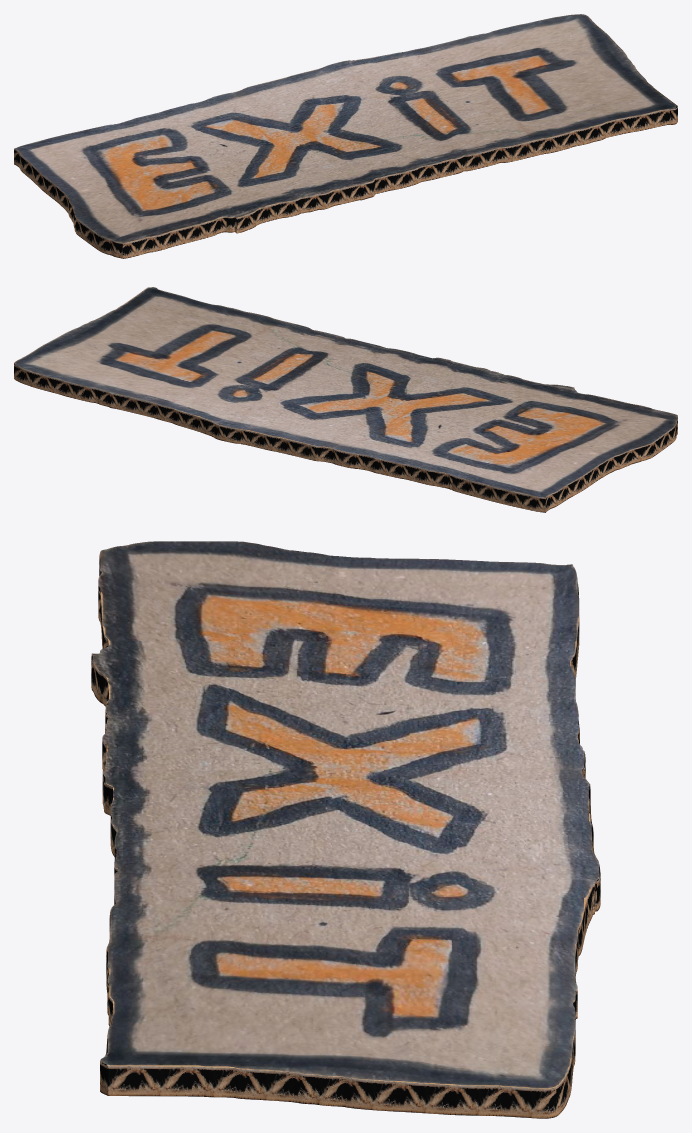
The model's file is Exit.fbx.
The picture shows the model from 3 angles, top to bottom: view 1: azimuth 30°, elevation 25°; view 2: azimuth 150°, elevation 25°; view 3: azimuth 270°, elevation 25°; orthographic projection. The views are drawn at different scales.
Visible parts, largest first — view 1: Exit; view 2: Exit; view 3: Exit.
Part boxes in pixels (box(x1,y1,x2,y2)): Exit: box(14, 14, 677, 258); Exit: box(14, 287, 677, 512); Exit: box(91, 541, 600, 1118).
Bounding box in the file's own units: 3.94 × 0.1 × 1.55.
